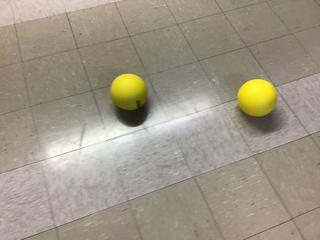power_cell: (236, 79, 278, 117), (107, 73, 148, 111)
